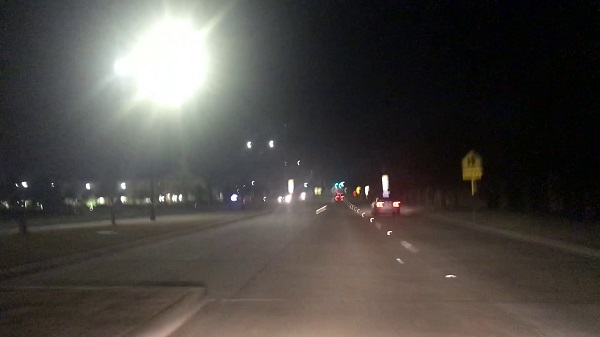car: (370, 196, 401, 215), (331, 190, 348, 204)
